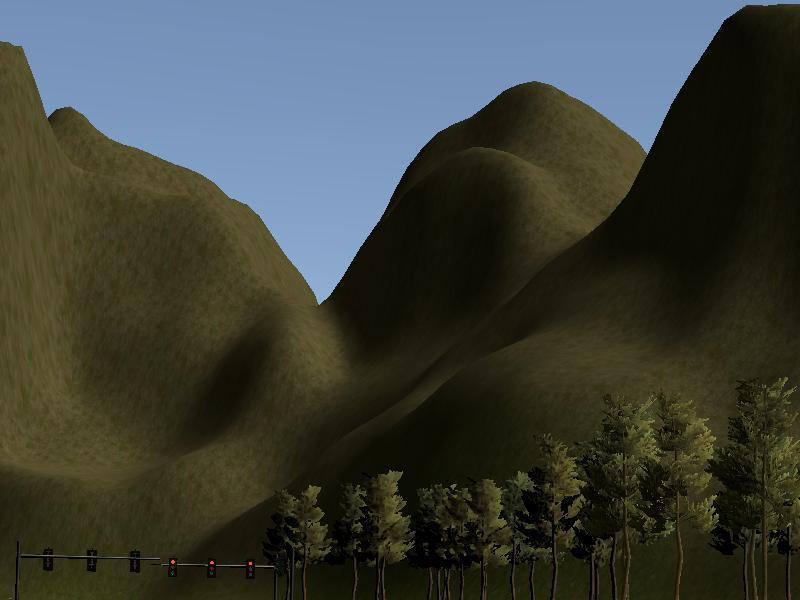Red: (206, 556, 217, 579), (245, 557, 256, 578), (168, 556, 178, 578)
